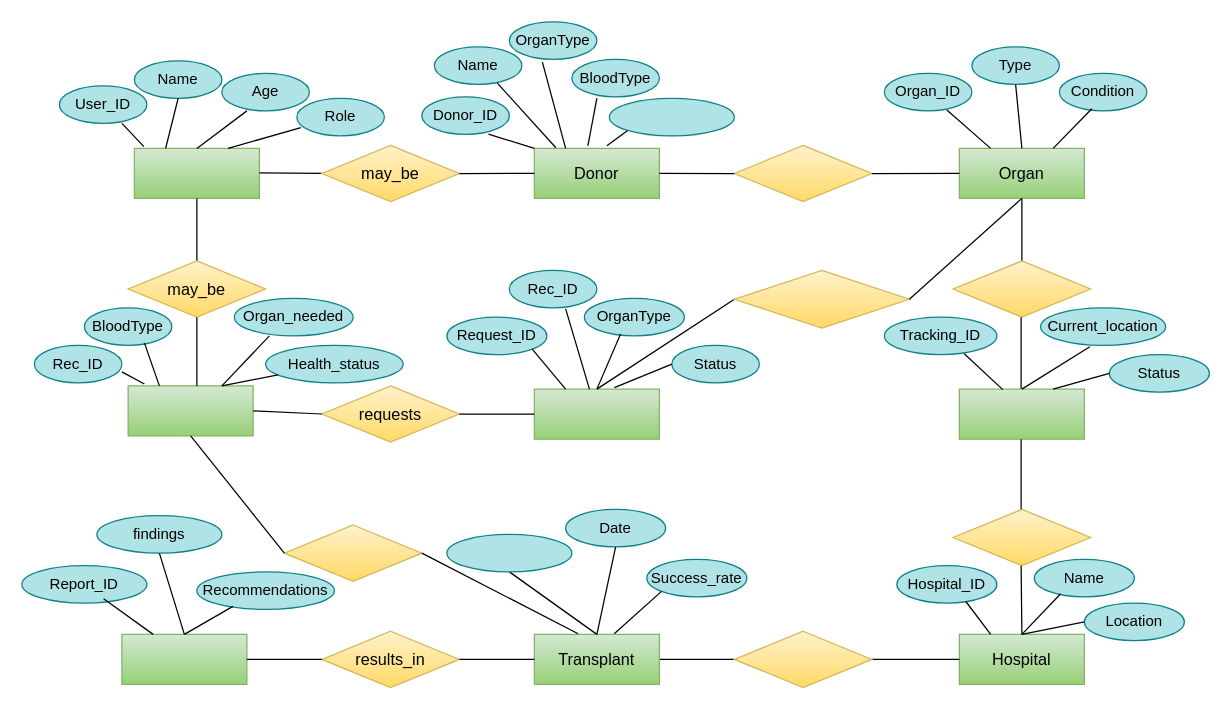
The diagram is 1231 pixels wide and 710 high, and some of its shapes have lost their labels. Here are the shapes that lost their labels. From the top down, the box of each, then its label:
(608, 97, 734, 136): Medical_history
(133, 147, 259, 198): User
(733, 144, 872, 202): donates
(733, 269, 909, 328): is_matched with
(952, 260, 1091, 317): is_monitored
(127, 385, 253, 436): Recipient
(533, 388, 659, 439): Organ Request
(958, 388, 1084, 439): Organ Tracking
(283, 524, 422, 581): performed_on
(446, 533, 572, 572): Transplant_ID
(952, 508, 1091, 566): manages
(121, 633, 247, 684): Report Analysis
(733, 630, 872, 688): conducts
